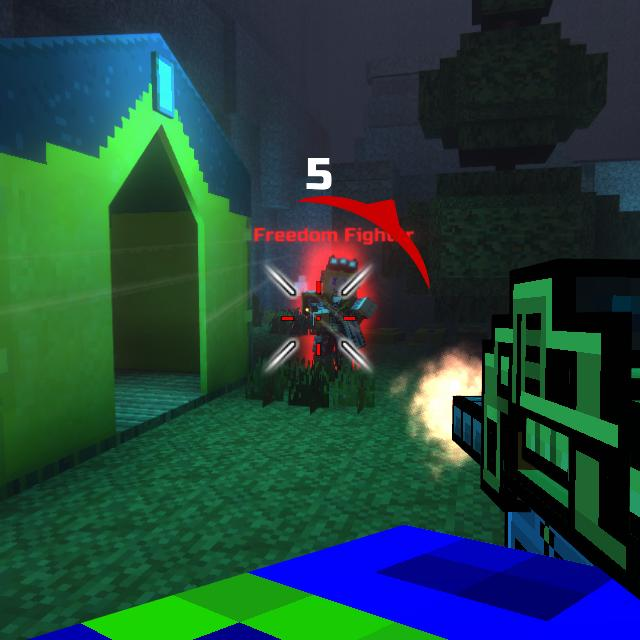Enemy: (302, 257, 379, 380)
